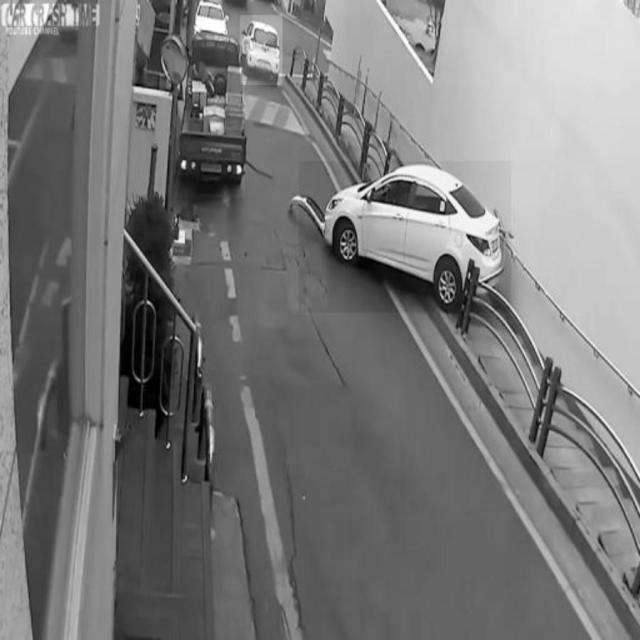accident: (300, 162, 512, 313)
vehicle: (175, 26, 245, 196), (239, 15, 283, 86)
